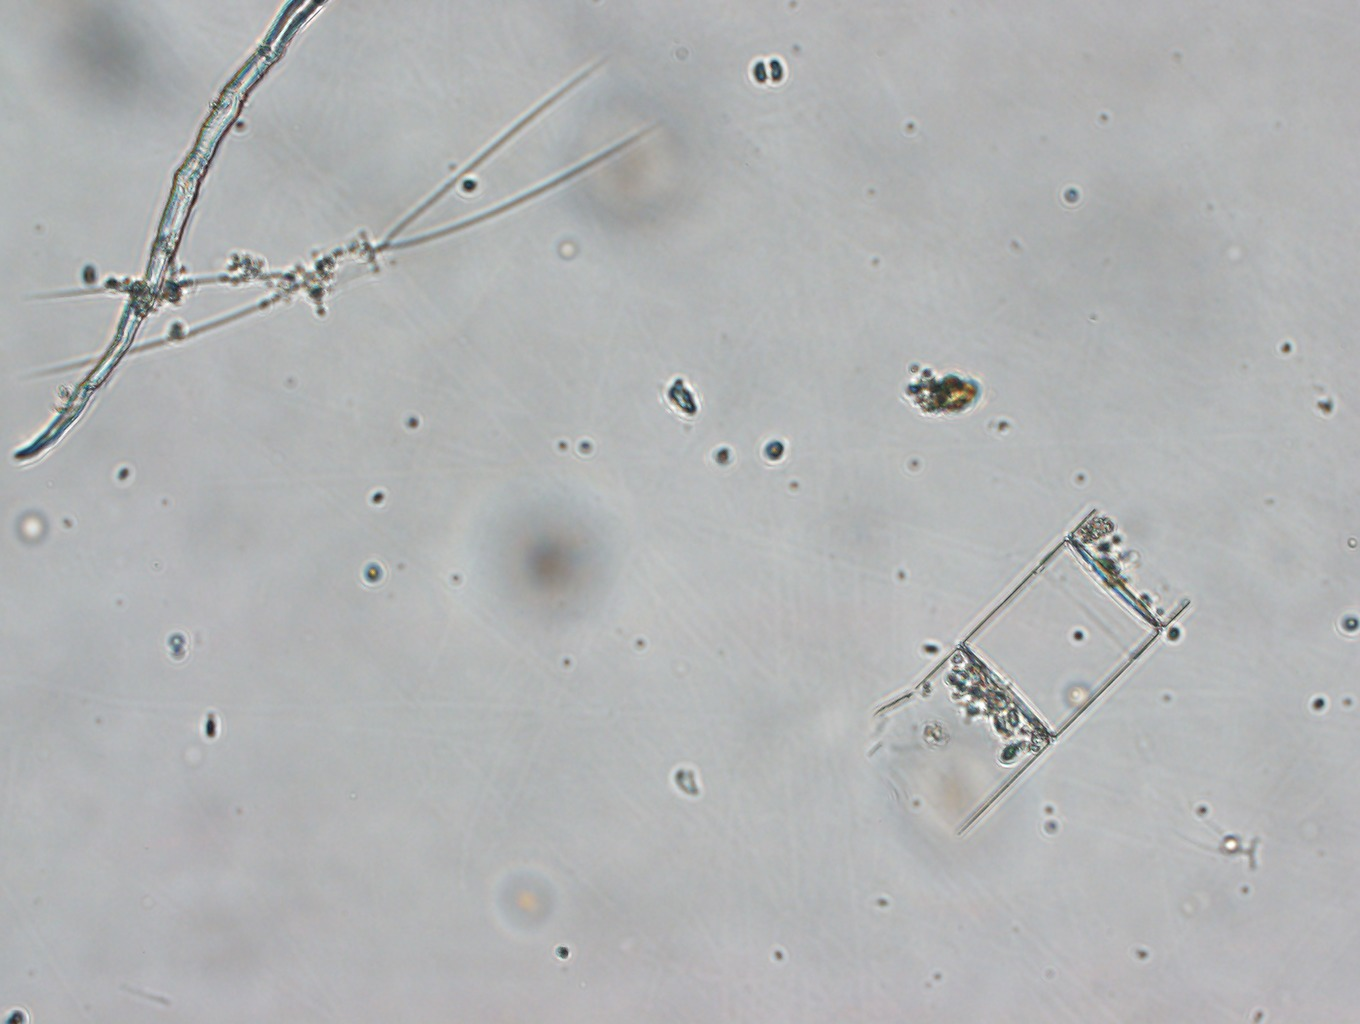chaetoceros: (28, 49, 669, 378)
guinardia flaccida: (873, 511, 1213, 841)
